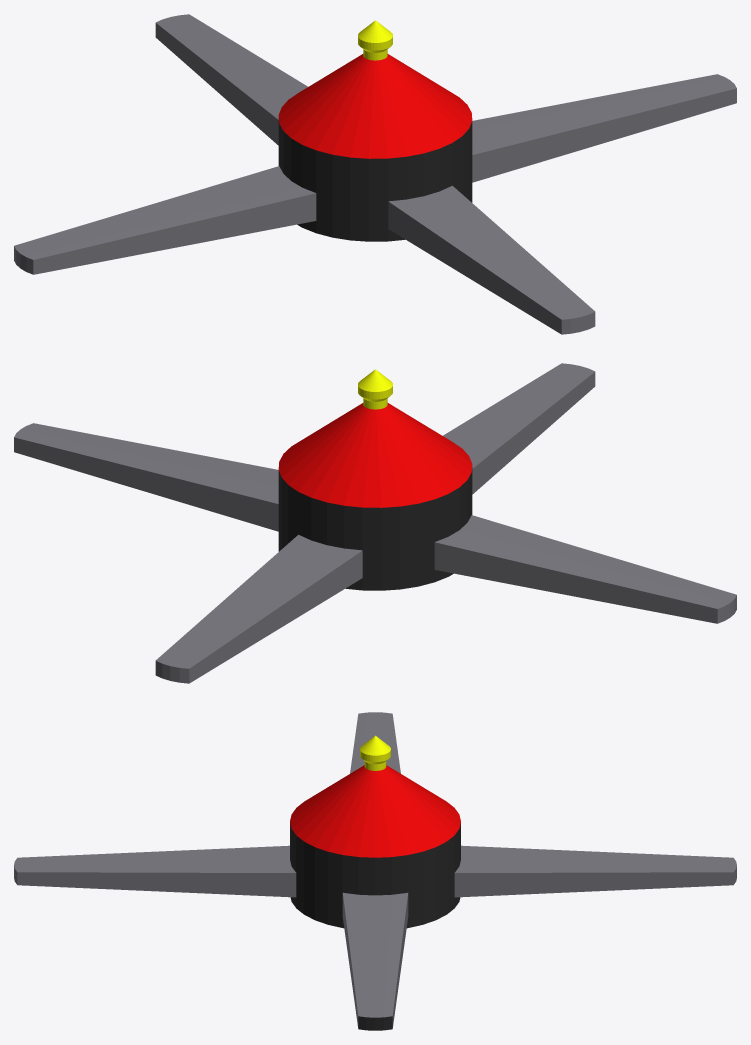
File: breakdancekreuzee.glb
3 renders of one model, top to bottom at view 1: azimuth 30°, elevation 25°; view 2: azimuth 150°, elevation 25°; view 3: azimuth 270°, elevation 25°, orthographic. The views are drawn at different scales.
Parts seen in each view (by area): view 1: Cylinder; view 2: Cylinder; view 3: Cylinder.
Part boxes in pixels (<box>): Cylinder: <box>14,14,736,334</box>; Cylinder: <box>14,363,736,683</box>; Cylinder: <box>14,712,736,1030</box>.
Bounding box in the file's own units: 8.45 × 2.05 × 8.45.
